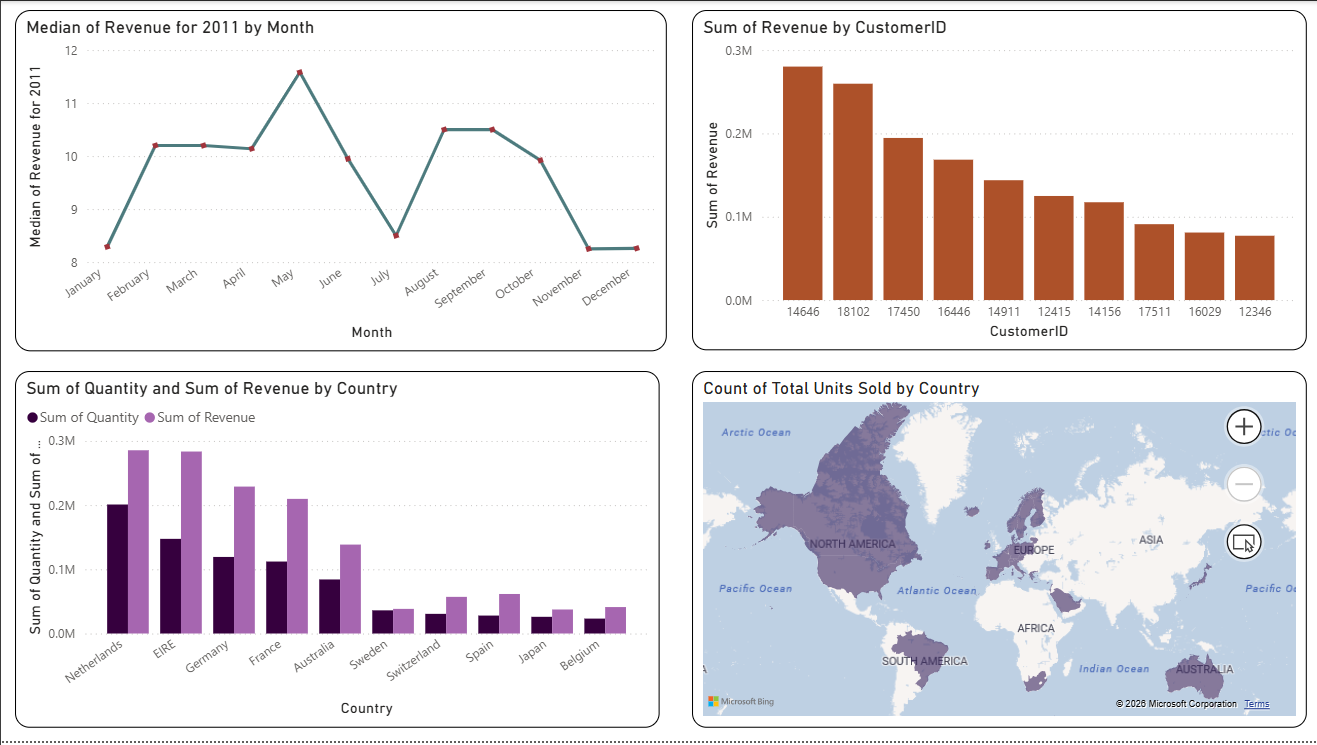

What the dashboard file says about the page in this screenshot:
{"tool":"powerbi","page":{"name":"Page 1","canvas":[1280,720],"ordinal":0},"visuals":[{"type":"lineChart","fields":{"Category":["Online Retail.InvoiceDate.Variation.Date Hierarchy.Year","Online Retail.InvoiceDate.Variation.Date Hierarchy.Month","Online Retail.InvoiceDate.Variation.Date Hierarchy.Day"],"Y":["Online Retail.Median of Revenue for 2011"]},"box":[13.3,8.9,634.4,332.2],"z":0},{"type":"clusteredColumnChart","fields":{"Y":["Sum(Online Retail.Quantity)","Sum(Online Retail.Revenue)1"],"Category":["Online Retail.Country"]},"box":[13.3,360,626.7,346.7],"z":1000},{"type":"clusteredColumnChart","fields":{"Category":["Online Retail.CustomerID"],"Y":["Sum(Online Retail.Revenue)"]},"box":[672.2,8.9,597.8,331.1],"z":2000},{"type":"filledMap","fields":{"Category":["Online Retail.Country"]},"box":[672.2,360,597.8,346.7],"z":3000}]}

Visuals, with their boxes in screenshot pixels (x1, y1, x2, y2), scaled from the page's 1280x720 canvas onto the 1317x745 screenshot:
lineChart - Online Retail.InvoiceDate.Variation.Date Hierarchy.Year x Online Retail.InvoiceDate.Variation.Date Hierarchy.Month: <region>14, 9, 666, 353</region>
clusteredColumnChart - Sum(Online Retail.Quantity) x Sum(Online Retail.Revenue)1: <region>14, 373, 658, 731</region>
clusteredColumnChart - Online Retail.CustomerID x Sum(Online Retail.Revenue): <region>692, 9, 1307, 352</region>
filledMap - Online Retail.Country: <region>692, 373, 1307, 731</region>
